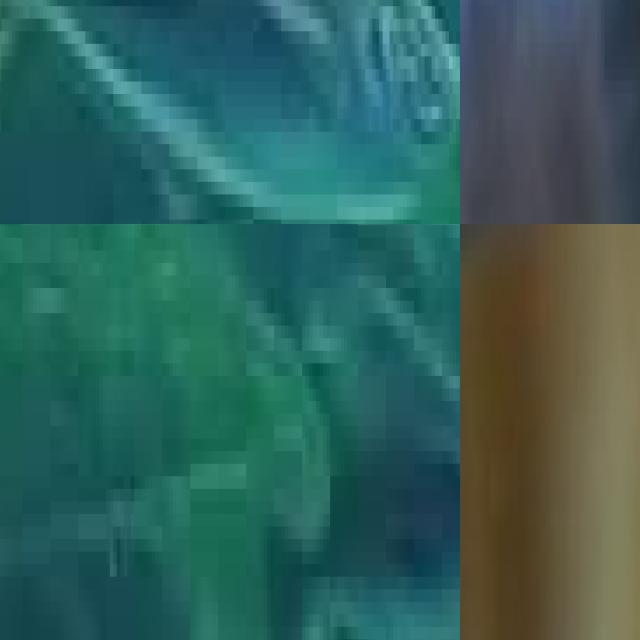fish: (0, 0, 460, 224), (460, 0, 640, 224)
